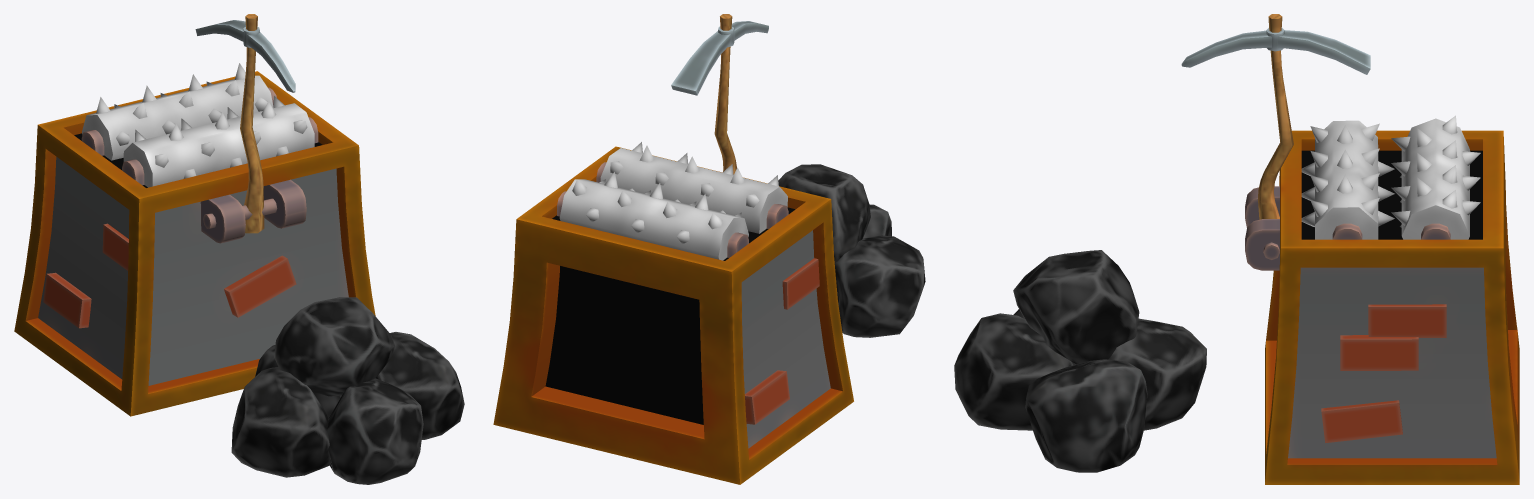
File: mine.fbx
3 views of the same model, side by side, from view 1: azimuth 30°, elevation 25°; view 2: azimuth 150°, elevation 25°; view 3: azimuth 270°, elevation 25° (orthographic). The views are drawn at different scales.
Visible parts, largest first — view 1: rockLP.003_Baked, rockLP.005_Baked, Cylinder.001_Baked, Cylinder.002_Baked, Plane.001_Baked; view 2: rockLP.003_Baked, rockLP.005_Baked, Cylinder.002_Baked, Cylinder.001_Baked, Plane.001_Baked; view 3: rockLP.003_Baked, rockLP.005_Baked, Cylinder.001_Baked, Cylinder.002_Baked, Plane.001_Baked.
Part boxes in pixels (bbox=[...]): rockLP.003_Baked: bbox=[14, 71, 375, 416]; rockLP.005_Baked: bbox=[231, 297, 464, 484]; Cylinder.001_Baked: bbox=[123, 96, 314, 187]; Cylinder.002_Baked: bbox=[82, 63, 273, 160]; Plane.001_Baked: bbox=[195, 14, 295, 233]; rockLP.003_Baked: bbox=[493, 146, 853, 484]; rockLP.005_Baked: bbox=[778, 164, 925, 337]; Cylinder.002_Baked: bbox=[559, 172, 748, 260]; Cylinder.001_Baked: bbox=[600, 142, 787, 233]; Plane.001_Baked: bbox=[671, 14, 768, 174]; rockLP.003_Baked: bbox=[1245, 130, 1519, 484]; rockLP.005_Baked: bbox=[954, 250, 1206, 472]; Cylinder.001_Baked: bbox=[1301, 120, 1394, 239]; Cylinder.002_Baked: bbox=[1391, 115, 1480, 239]; Plane.001_Baked: bbox=[1181, 14, 1370, 219].
Bounding box in the file's own units: 96 × 134 × 170.
Materials: 1 (1 with a texture image).
